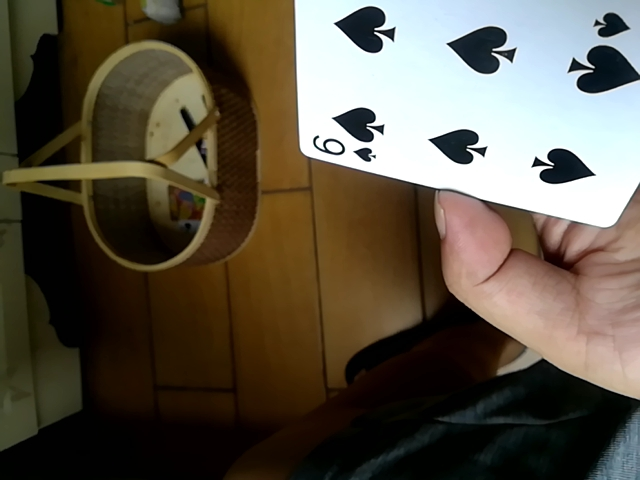ht 6: (291, 0, 640, 236)
